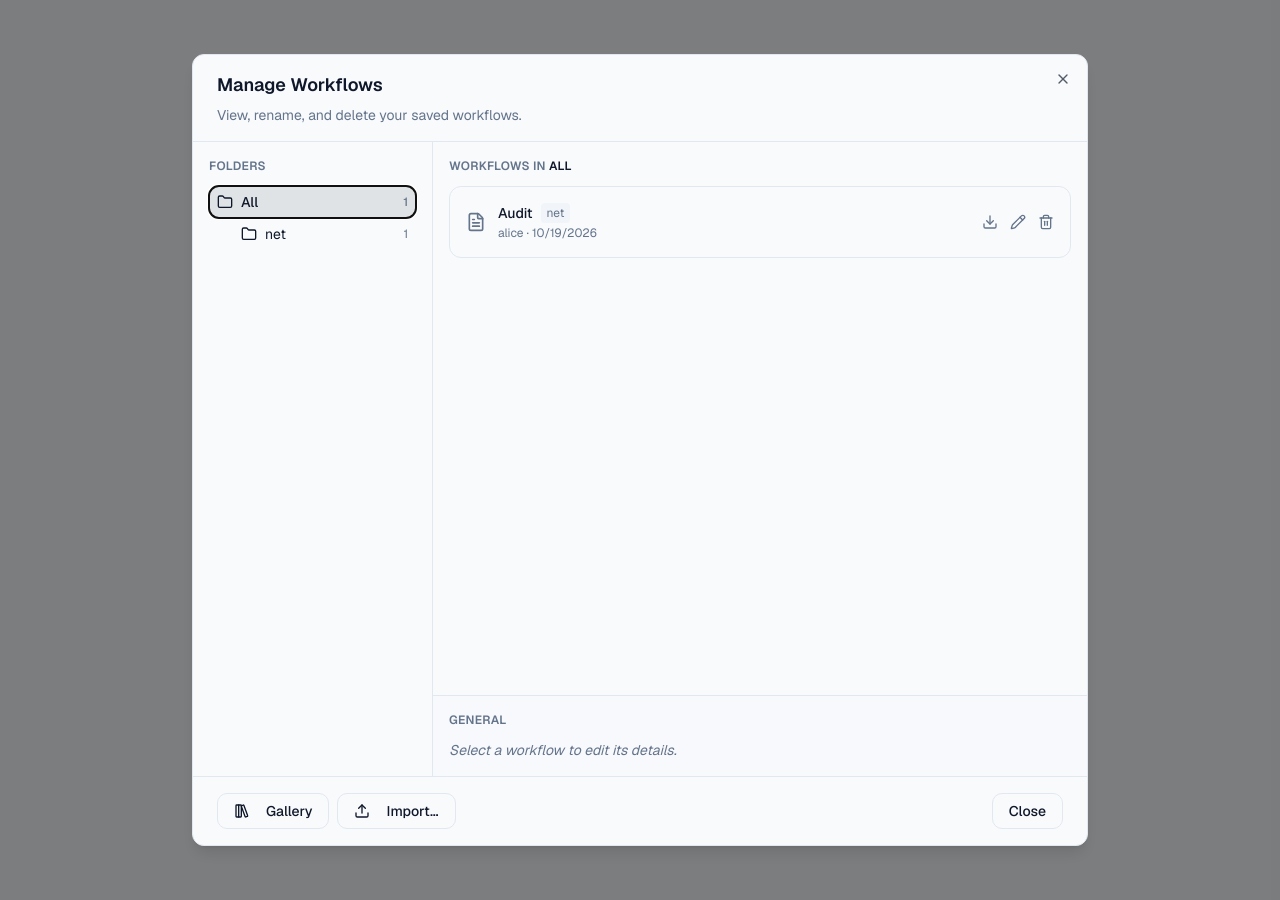
WorkflowManageDialog edit › fills the form with the chosen workflow
Step 1. Click the button named "Edit workflow" → (1018, 222), box 1010,214 -> 1026,230
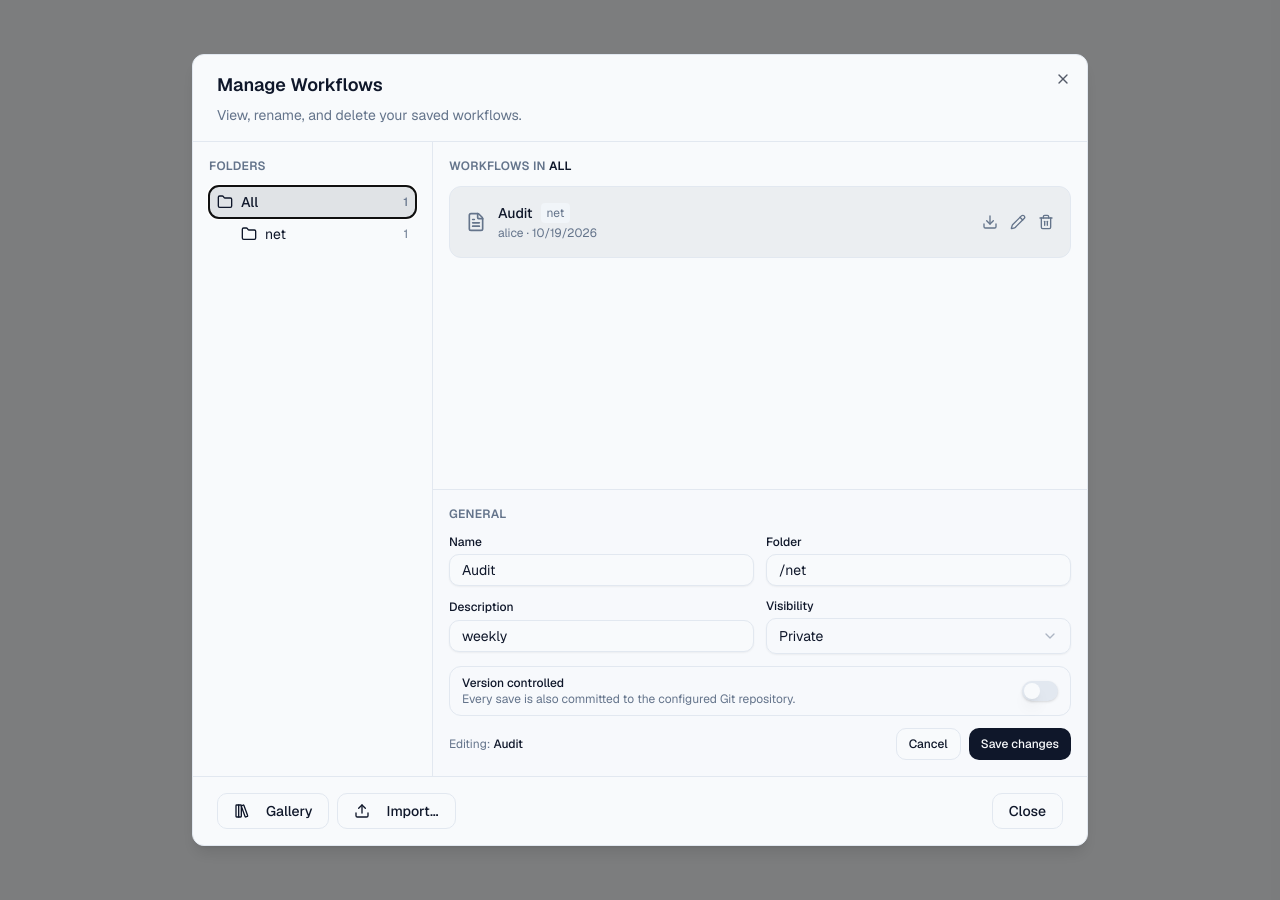
expect the field labelled "Name" holds "Audit": met, box 449,554 -> 754,586
expect the field labelled "Folder" holds "/net": met, box 766,554 -> 1071,586
expect the field labelled "Description" holds "weekly": met, box 449,620 -> 754,652
